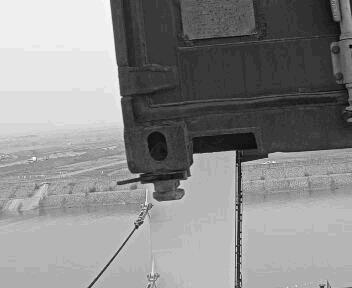twist_lock_1: (143, 170, 205, 205)
